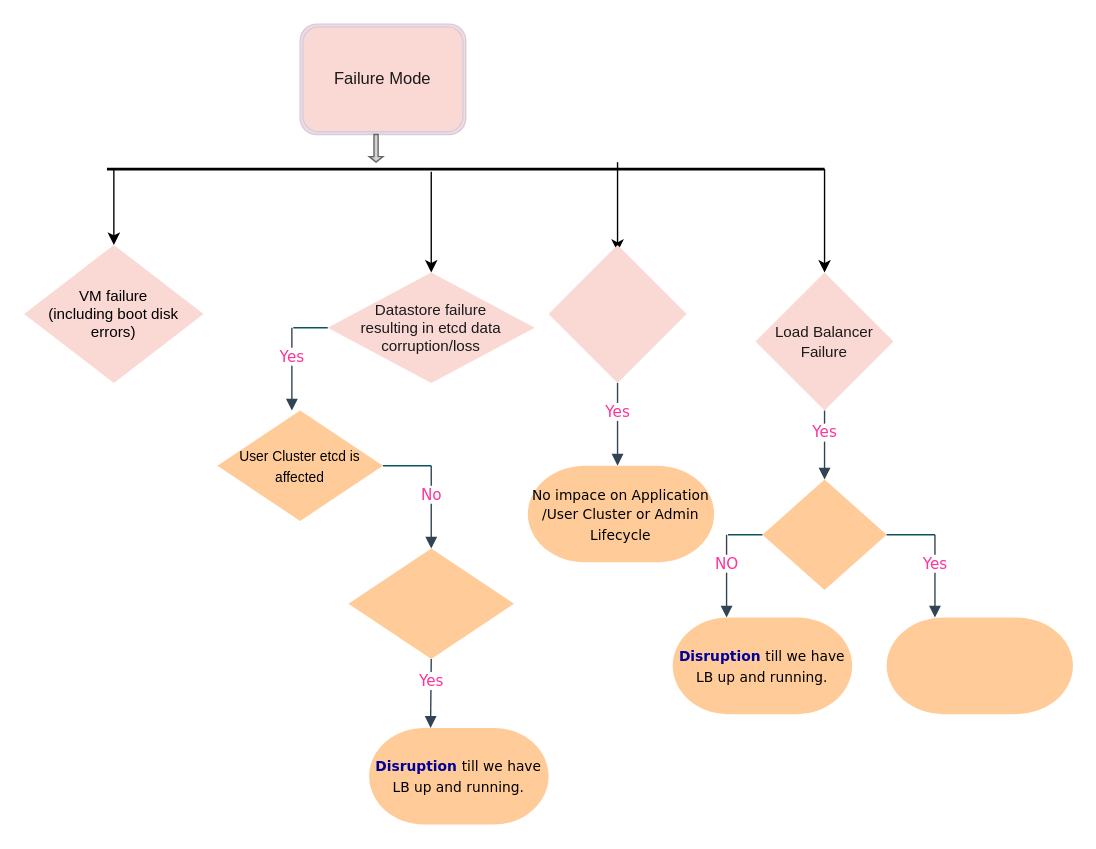
This 1096x849 diagram has some shape labels left out. The shapes that lost their labels are listed below. From the top down, each one's centre as x and y in pixels, then its label:
At (x=617, y=313): "ESXi failure".
At (x=824, y=534): "Do you have HA ?".
At (x=430, y=603): "Admin Cluster etcd is affected".
At (x=979, y=665): "Small Distruption on Application / Admin / User Cluster".
